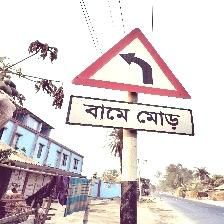Left-Turn: (66, 28, 194, 137)
